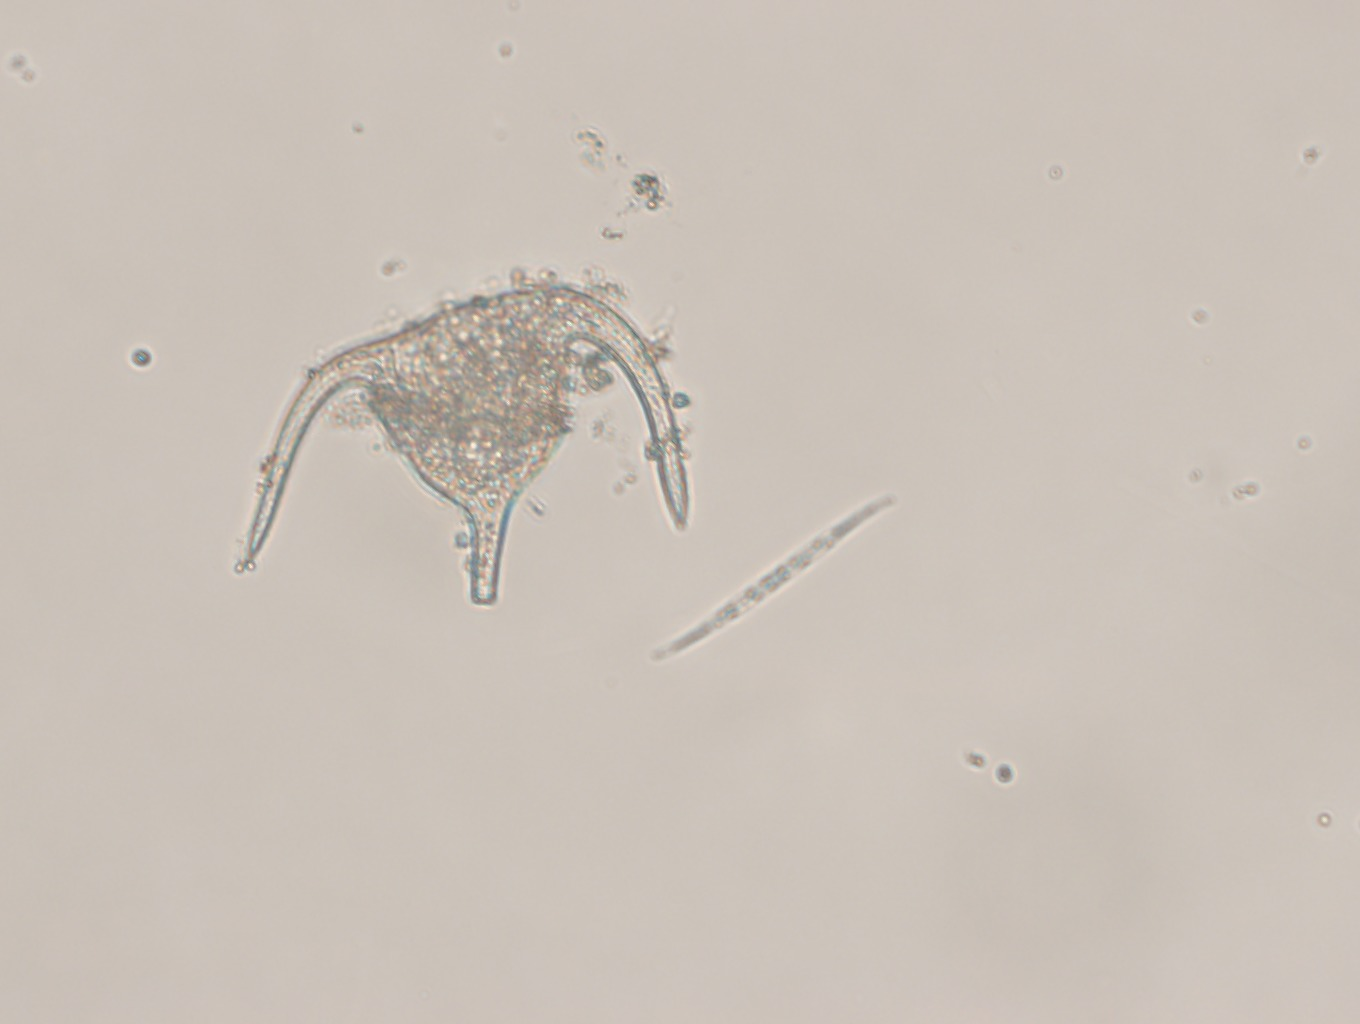ceratium tripos: (244, 280, 691, 606)
pleurosigma pelagicum: (646, 494, 899, 667)
